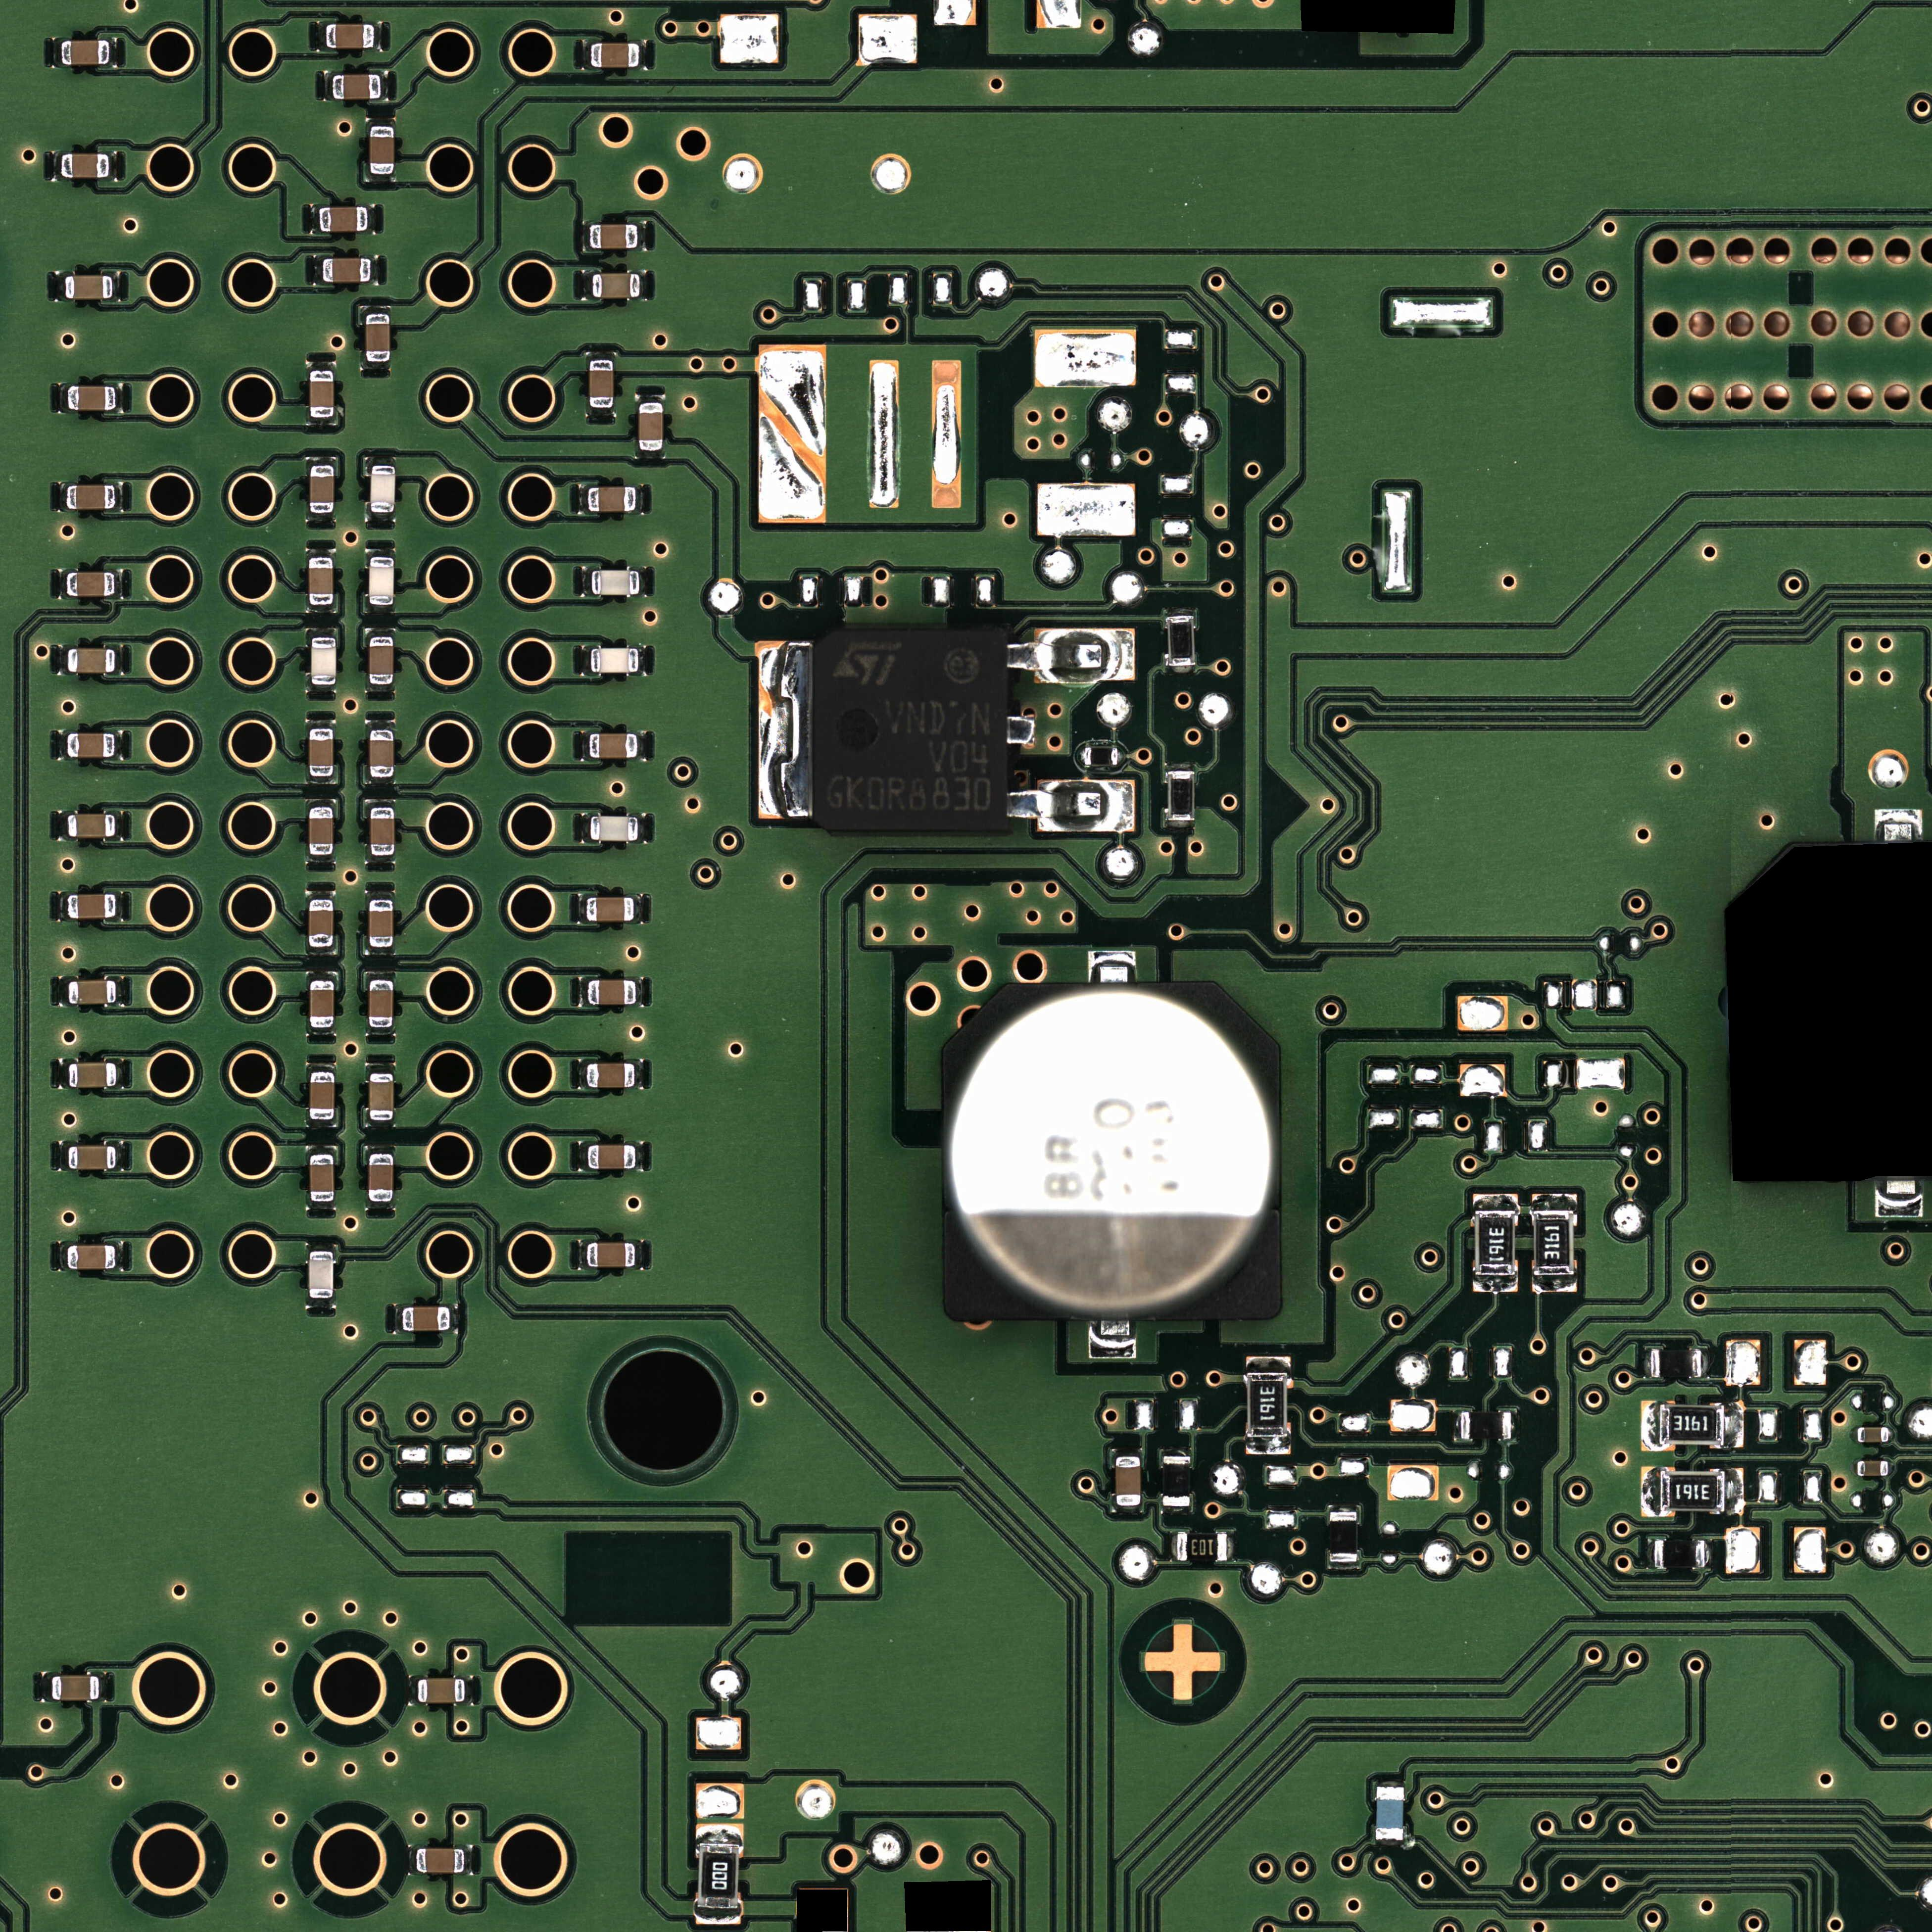Package: (939, 982, 1288, 1320), (814, 628, 1008, 830), (1660, 1470, 1725, 1513), (1246, 1373, 1288, 1437), (1534, 1210, 1575, 1276), (699, 1844, 740, 1909), (1660, 1405, 1725, 1445), (1476, 1212, 1514, 1276), (1376, 1787, 1405, 1840), (1460, 1412, 1511, 1440), (1651, 1350, 1702, 1378), (1162, 1456, 1191, 1506), (1177, 1532, 1226, 1560), (1654, 1539, 1704, 1568), (1115, 1456, 1141, 1506), (1330, 1513, 1357, 1562), (1168, 616, 1194, 665), (1168, 771, 1194, 821), (67, 648, 115, 674), (593, 272, 640, 299), (591, 816, 639, 842), (368, 557, 395, 605), (416, 1849, 465, 1874), (587, 487, 637, 511), (322, 258, 372, 283), (318, 207, 368, 232), (589, 359, 614, 409), (587, 980, 637, 1005), (639, 402, 663, 451), (370, 807, 395, 856), (67, 485, 115, 510), (67, 571, 115, 596), (67, 732, 115, 757), (67, 386, 115, 410), (67, 893, 115, 918), (62, 41, 110, 65), (62, 154, 110, 179), (589, 734, 637, 759), (591, 648, 639, 672), (69, 1063, 117, 1088), (310, 465, 334, 513), (368, 637, 393, 685), (311, 637, 336, 685), (51, 1675, 99, 1700), (370, 465, 395, 513), (310, 1154, 334, 1201), (418, 1679, 465, 1704), (67, 814, 115, 839), (69, 980, 117, 1005), (326, 23, 373, 48), (589, 225, 637, 249), (308, 557, 333, 605), (591, 570, 639, 594), (310, 980, 334, 1028), (333, 74, 380, 99), (591, 42, 639, 67), (368, 1154, 393, 1201), (310, 1072, 334, 1120), (368, 980, 393, 1028), (308, 899, 333, 947), (310, 370, 334, 418), (587, 1145, 635, 1169), (587, 1063, 635, 1088), (587, 1242, 635, 1267), (587, 897, 633, 922), (370, 1074, 395, 1120), (368, 901, 393, 947), (370, 731, 395, 777), (65, 276, 113, 299), (67, 1246, 115, 1269), (310, 807, 333, 855), (69, 1146, 117, 1169), (310, 729, 333, 777), (310, 1251, 333, 1299), (402, 1307, 449, 1330), (370, 126, 393, 173), (366, 315, 389, 361), (1085, 747, 1118, 766), (1858, 1426, 1890, 1442), (1858, 1461, 1888, 1476)
Solder: (757, 640, 812, 819), (1008, 628, 1136, 681), (1008, 778, 1134, 832), (1088, 1322, 1136, 1359), (1088, 950, 1136, 982), (1877, 1182, 1921, 1215), (1875, 809, 1923, 839), (1640, 1467, 1660, 1518), (1640, 1401, 1660, 1451), (1725, 1468, 1744, 1514), (697, 1824, 743, 1844), (1725, 1403, 1744, 1447), (1007, 717, 1035, 747), (1472, 1277, 1518, 1293), (695, 1909, 741, 1925), (1474, 1194, 1518, 1210), (1246, 1438, 1290, 1454), (1532, 1194, 1576, 1210), (1532, 1277, 1578, 1292), (1246, 1357, 1290, 1371), (580, 271, 593, 301), (322, 71, 333, 101), (407, 1675, 418, 1706), (306, 971, 340, 980), (363, 971, 396, 980), (363, 605, 396, 614), (363, 947, 396, 955), (306, 628, 338, 637), (364, 628, 396, 637), (1111, 1447, 1143, 1456), (306, 1145, 338, 1154), (1164, 763, 1196, 771), (1164, 607, 1196, 616), (306, 798, 338, 807), (364, 456, 396, 465), (364, 513, 396, 522), (1161, 1447, 1192, 1456), (306, 947, 338, 955), (1161, 1506, 1192, 1514), (359, 304, 391, 313), (1645, 1537, 1654, 1569), (57, 271, 65, 303), (366, 117, 396, 126), (306, 418, 336, 426), (366, 720, 396, 729), (306, 855, 336, 863), (306, 456, 336, 465), (366, 1063, 396, 1072), (1329, 1504, 1359, 1513), (306, 1201, 336, 1210), (306, 1063, 336, 1072), (465, 1845, 474, 1875), (306, 361, 336, 370), (579, 977, 587, 1007), (306, 513, 336, 522), (635, 1060, 644, 1090), (58, 810, 67, 840), (586, 350, 616, 359), (380, 71, 389, 101), (364, 1201, 395, 1210), (364, 1145, 395, 1154), (42, 1672, 51, 1702), (317, 21, 326, 51), (582, 646, 591, 676), (407, 1845, 416, 1875), (306, 685, 336, 694), (306, 1242, 336, 1251), (586, 409, 616, 418), (306, 1299, 336, 1307), (313, 255, 322, 285), (580, 731, 589, 761), (1164, 821, 1194, 830), (465, 1675, 474, 1706), (582, 566, 591, 596), (579, 1141, 587, 1171), (58, 892, 67, 922), (449, 1304, 458, 1334), (58, 731, 67, 761), (582, 39, 591, 69), (637, 731, 646, 761), (364, 1120, 395, 1129), (306, 720, 334, 729), (306, 548, 334, 557), (366, 548, 395, 557), (306, 890, 334, 899), (366, 890, 395, 899), (60, 1060, 69, 1088), (579, 485, 587, 513), (579, 1240, 587, 1269), (364, 856, 396, 863), (364, 175, 396, 182), (306, 605, 338, 612), (1329, 1562, 1361, 1569), (364, 800, 396, 807), (1644, 1346, 1651, 1378), (1228, 1530, 1235, 1562), (364, 777, 396, 784), (1169, 1530, 1177, 1562), (53, 37, 60, 69), (1706, 1539, 1713, 1571), (1111, 1506, 1143, 1513), (366, 1028, 396, 1035), (308, 1120, 338, 1127), (1166, 667, 1196, 674), (306, 1028, 336, 1035), (637, 977, 644, 1007), (635, 395, 665, 402), (366, 685, 396, 692), (639, 221, 646, 251), (60, 977, 67, 1007), (582, 221, 589, 251), (60, 646, 67, 676), (60, 1141, 67, 1171), (308, 777, 338, 784), (372, 255, 379, 285), (637, 1141, 644, 1171), (60, 570, 67, 600), (639, 646, 646, 676), (375, 21, 382, 51), (635, 451, 665, 458), (635, 1240, 642, 1270), (579, 893, 586, 924), (53, 152, 60, 182), (1511, 1410, 1518, 1440), (115, 644, 122, 674), (639, 41, 646, 71), (110, 37, 117, 67), (110, 150, 117, 180), (579, 1060, 586, 1090), (115, 382, 122, 412), (639, 814, 646, 844), (1702, 1348, 1709, 1378), (115, 481, 122, 511), (1375, 1780, 1405, 1787), (640, 271, 648, 301), (395, 1304, 402, 1334), (113, 271, 120, 301), (1453, 1410, 1460, 1440), (1375, 1840, 1405, 1847), (60, 1242, 67, 1270), (582, 814, 589, 842), (115, 570, 122, 598), (363, 363, 391, 370), (115, 1242, 122, 1270), (311, 205, 318, 234), (60, 384, 67, 412), (99, 1674, 106, 1702), (115, 731, 122, 759), (368, 205, 375, 234), (117, 1141, 124, 1169), (117, 977, 124, 1005), (117, 1060, 124, 1088), (115, 812, 122, 839), (637, 485, 642, 515), (635, 893, 640, 924), (640, 566, 646, 596), (117, 892, 122, 920), (60, 483, 65, 511), (1118, 747, 1125, 766), (1888, 1460, 1895, 1476), (1851, 1460, 1858, 1476), (1851, 1426, 1858, 1442), (1079, 747, 1085, 766), (1890, 1426, 1895, 1444)
